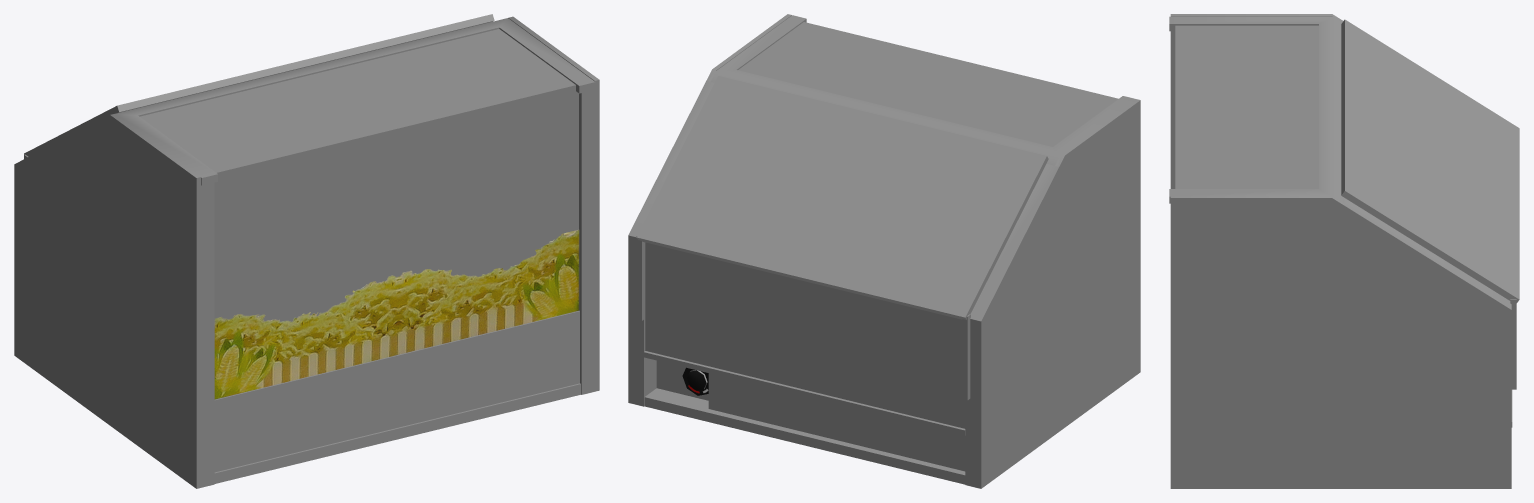
Rendered from LC_3068_Popcorndispenser_LOD1.FBX.
3 views of the same model, side by side, from view 1: azimuth 30°, elevation 25°; view 2: azimuth 150°, elevation 25°; view 3: azimuth 270°, elevation 25° (orthographic). The views are drawn at different scales.
Visible parts, largest first — view 1: LC_3068_Popcorndispenser_LOD1; view 2: LC_3068_Popcorndispenser_LOD1; view 3: LC_3068_Popcorndispenser_LOD1.
Part boxes in pixels (x1,y1,x2,y2): LC_3068_Popcorndispenser_LOD1: [14, 14, 599, 488]; LC_3068_Popcorndispenser_LOD1: [628, 14, 1140, 488]; LC_3068_Popcorndispenser_LOD1: [1169, 14, 1519, 488].
Size of the model in its own units: 99.9 by 73.84 by 80.32.
2 materials, 1 textured.
